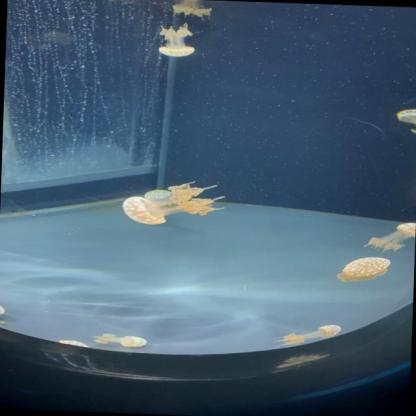jellyfish: (272, 321, 346, 349), (118, 195, 168, 224), (337, 255, 392, 281), (156, 44, 196, 58), (116, 333, 148, 348), (394, 107, 416, 126), (318, 322, 343, 336), (396, 222, 416, 238), (0, 301, 9, 318)
